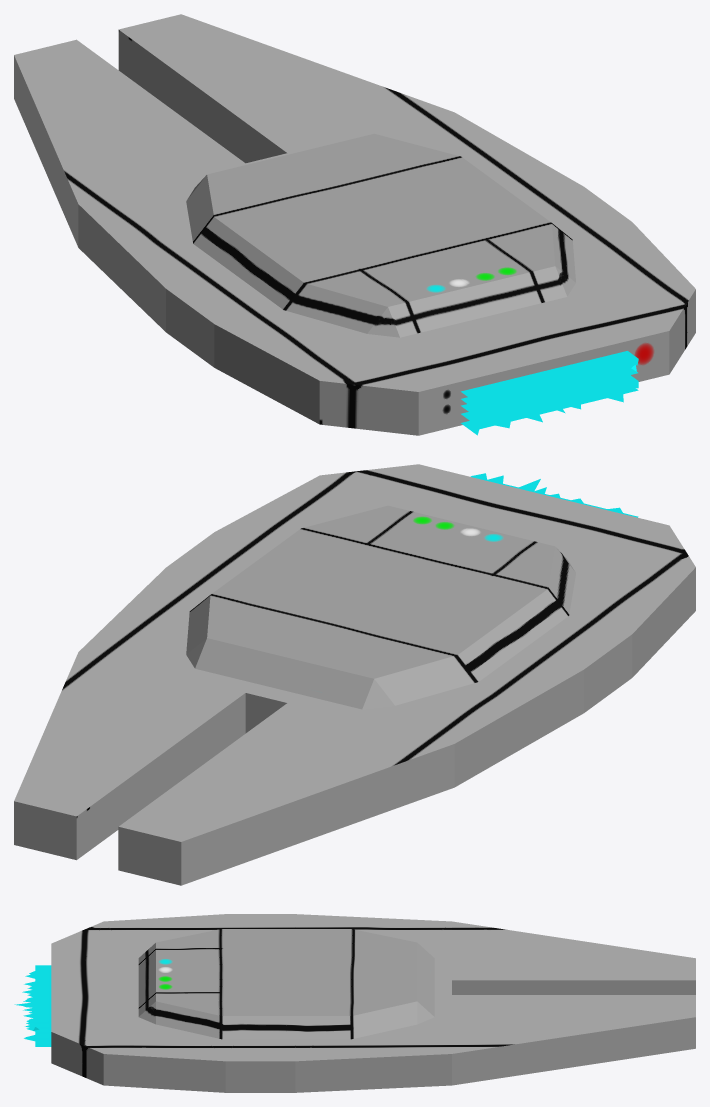
3 views of the same model, one above another, from view 1: azimuth 30°, elevation 25°; view 2: azimuth 150°, elevation 25°; view 3: azimuth 270°, elevation 25° (orthographic). The views are drawn at different scales.
Parts seen in each view (by area): view 1: Cube, Cube.001, Plane.001; view 2: Cube, Cube.001, Plane.001; view 3: Cube, Cube.001, Plane.001.
Boxes of the visible parts, box(x1,y1,x2,y2) form: Cube: box(14, 14, 695, 435); Cube.001: box(186, 133, 575, 337); Plane.001: box(461, 351, 638, 435); Cube: box(14, 464, 695, 885); Cube.001: box(186, 505, 575, 709); Plane.001: box(470, 473, 638, 517); Cube: box(51, 914, 695, 1092); Cube.001: box(138, 929, 434, 1039); Plane.001: box(14, 965, 51, 1046).
Bounding box in the file's own units: 20 × 3 × 39.15.
3 materials, 3 textured.
